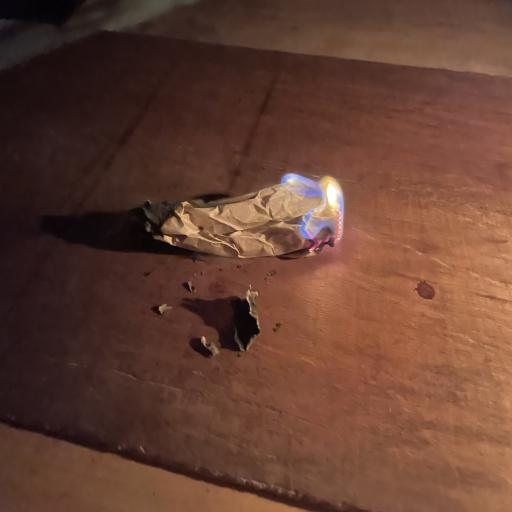fire: (271, 158, 354, 258)
